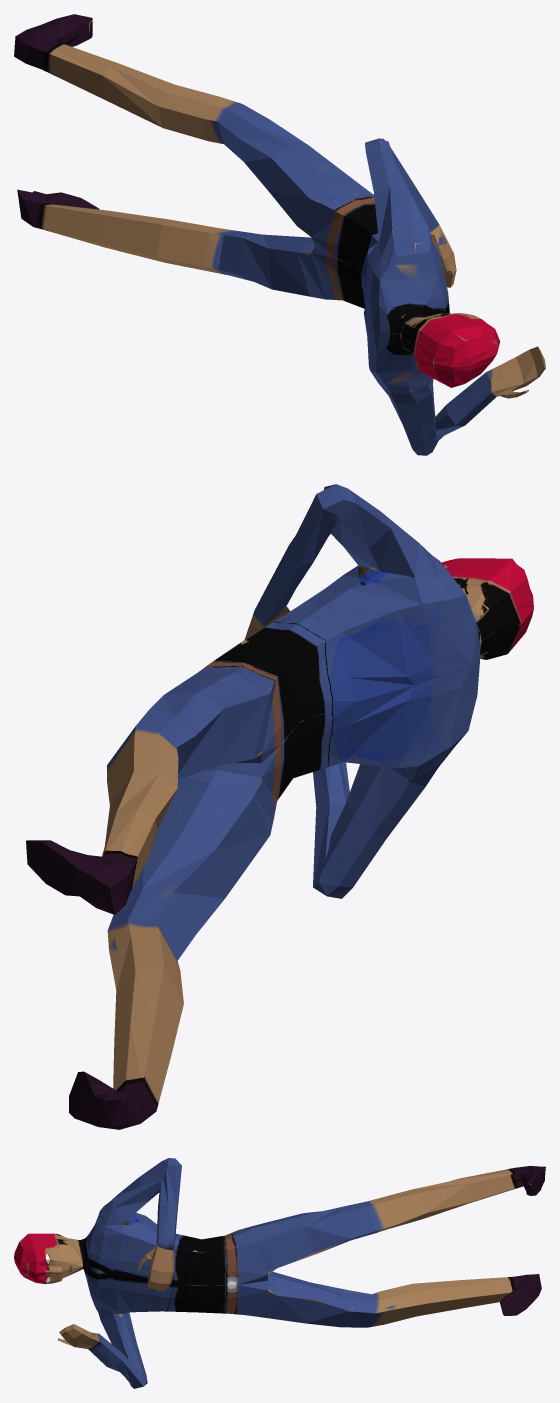
File: mirrorman_000020.obj
3 views of the same model, one above another, from view 1: azimuth 30°, elevation 25°; view 2: azimuth 150°, elevation 25°; view 3: azimuth 270°, elevation 25° (orthographic). The views are drawn at different scales.
Visible parts, largest first — view 1: mirrorman_Cube.001_Material.001; view 2: mirrorman_Cube.001_Material.001; view 3: mirrorman_Cube.001_Material.001.
Boxes of the visible parts, x1=… form: mirrorman_Cube.001_Material.001: x1=14, y1=14, x2=545, y2=455; mirrorman_Cube.001_Material.001: x1=26, y1=484, x2=533, y2=1129; mirrorman_Cube.001_Material.001: x1=14, y1=1158, x2=545, y2=1388.
Bounding box in the file's own units: 0.5946 × 0.8363 × 1.82.
Materials: 1 (1 with a texture image).
